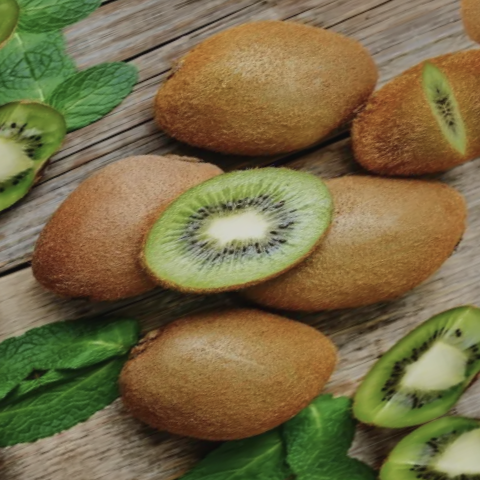kiwi: (0, 101, 287, 337), (201, 116, 480, 357), (83, 263, 371, 480), (122, 0, 401, 217)
